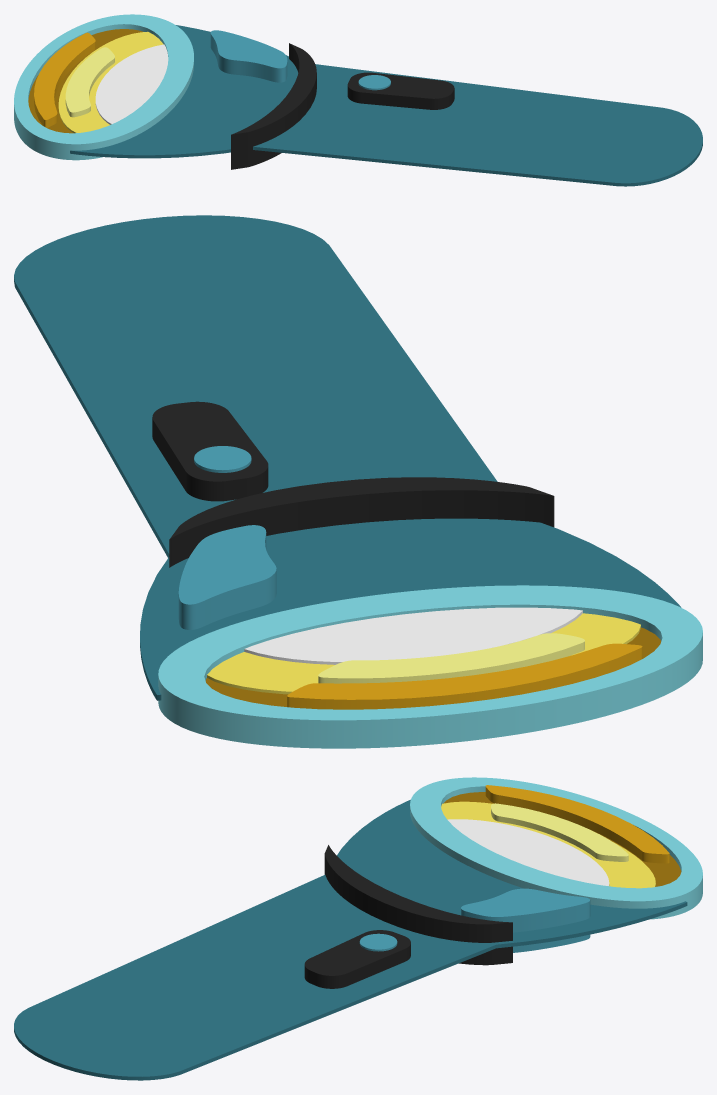
The model's file is emoji_u1f526.glb.
3 renders of one model, top to bottom at view 1: azimuth 30°, elevation 25°; view 2: azimuth 150°, elevation 25°; view 3: azimuth 270°, elevation 25°, orthographic. The views are drawn at different scales.
Visible parts, largest first — view 1: emoji_u1f526; view 2: emoji_u1f526; view 3: emoji_u1f526.
Boxes of the visible parts, x1,y1,x2,y2 form: emoji_u1f526: (14,14,702,186); emoji_u1f526: (14,215,702,748); emoji_u1f526: (14,777,702,1080).
Bounding box in the file's own units: 0.0338 × 0.0022 × 0.0337.
